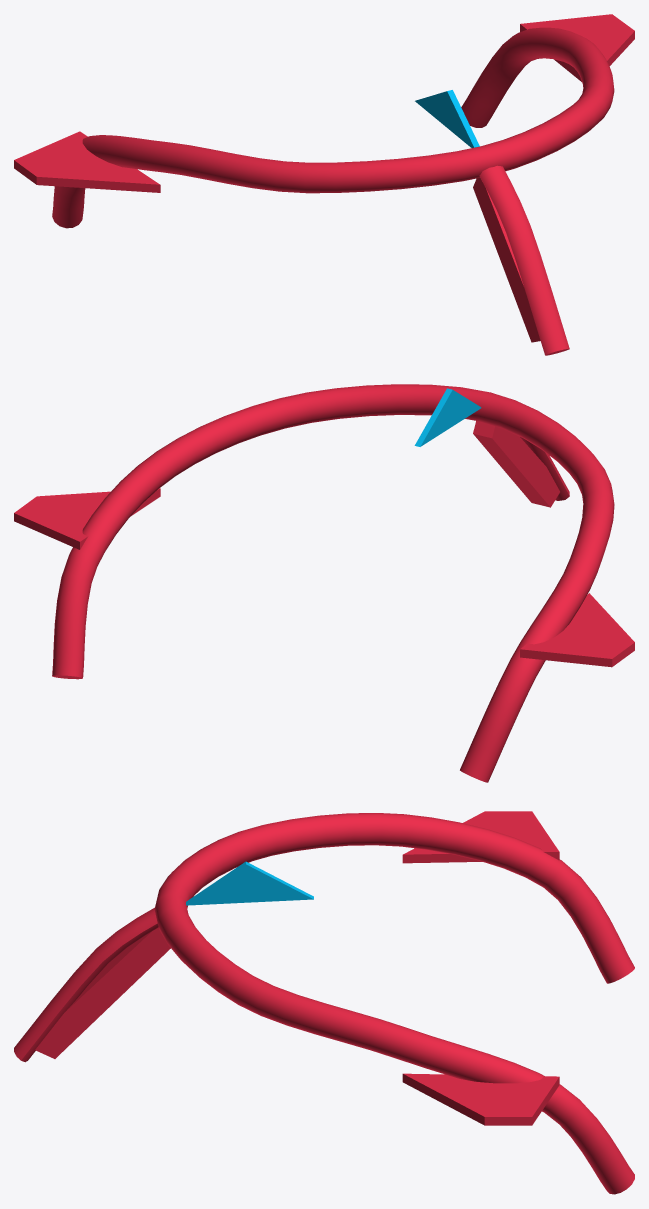
File: winged.glb
3 renders of one model, top to bottom at view 1: azimuth 30°, elevation 25°; view 2: azimuth 150°, elevation 25°; view 3: azimuth 270°, elevation 25°, orthographic. The views are drawn at different scales.
Visible parts, largest first — view 1: Halo_winged; view 2: Halo_winged; view 3: Halo_winged.
Boxes of the visible parts, box(x1,y1,x2,y2) form: Halo_winged: box(14, 14, 634, 355); Halo_winged: box(14, 384, 634, 782); Halo_winged: box(14, 811, 634, 1194).
Size of the model in its own units: 1.06 by 0.362 by 0.9109.
